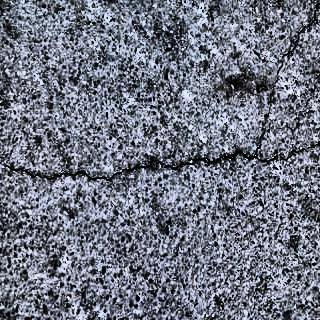crack: (266, 8, 320, 168), (5, 160, 262, 190), (230, 142, 268, 168)
